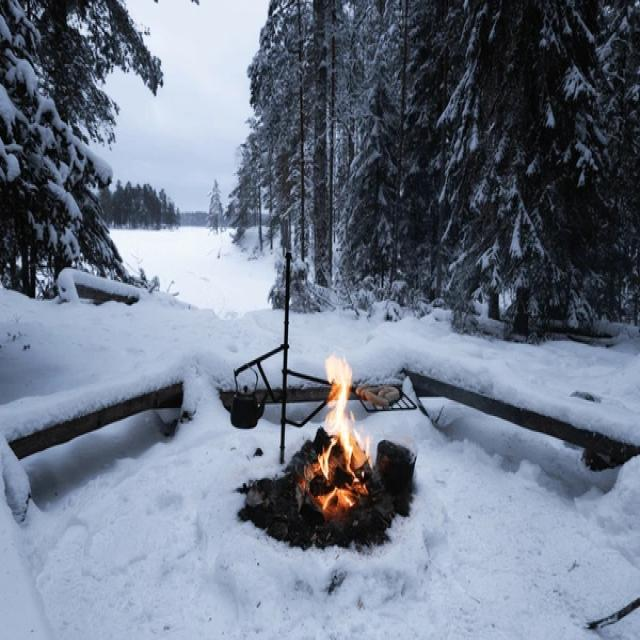fire: (300, 348, 372, 520)
